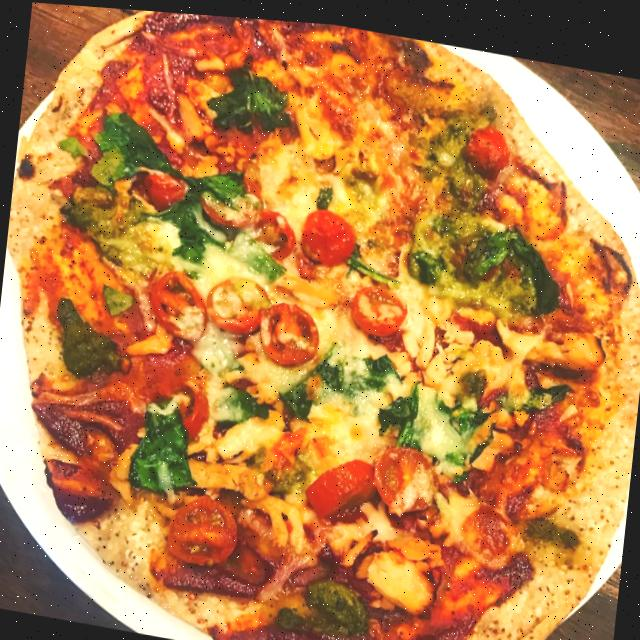basil: (90, 107, 305, 277), (293, 335, 404, 431), (376, 374, 498, 459), (468, 216, 566, 310), (126, 383, 204, 499), (202, 61, 298, 140), (216, 369, 286, 437), (502, 367, 574, 421), (407, 241, 452, 283)
pizza: (0, 0, 640, 640)
tomatoes: (297, 182, 364, 278), (162, 490, 241, 570), (144, 260, 212, 346), (252, 292, 324, 370), (347, 272, 409, 340), (205, 278, 264, 335)
